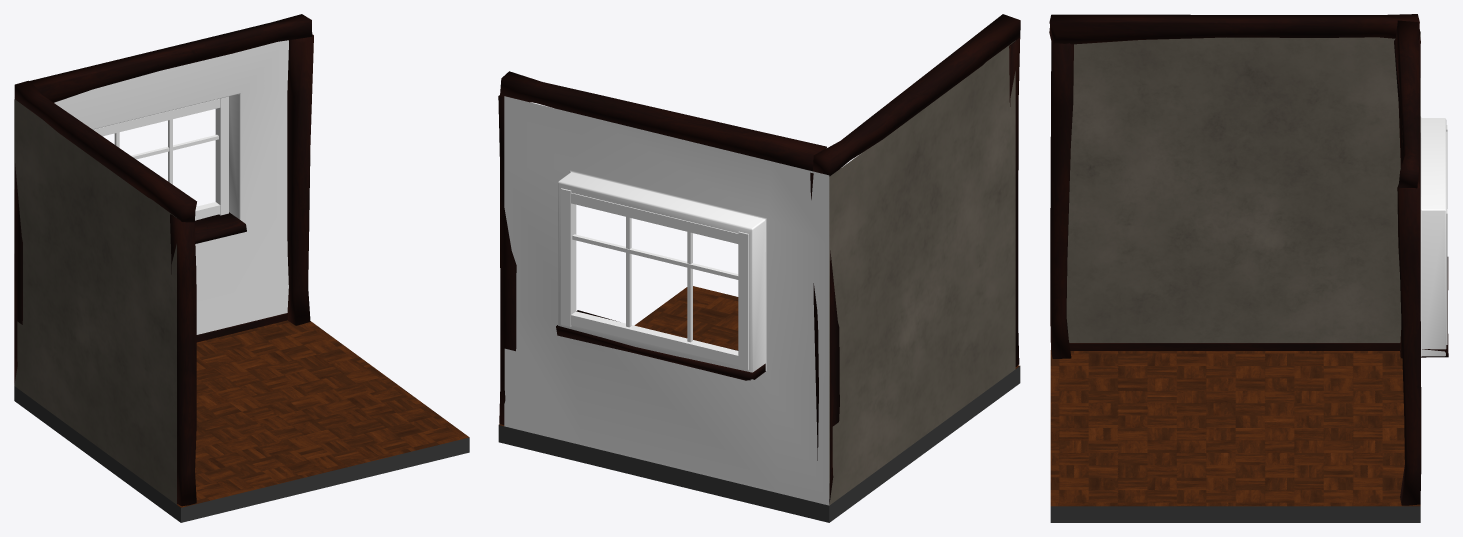
Rendered from cube_diorama.glb.
3 renders of one model, left to right at view 1: azimuth 30°, elevation 25°; view 2: azimuth 150°, elevation 25°; view 3: azimuth 270°, elevation 25°, orthographic. The views are drawn at different scales.
Parts seen in each view (by area): view 1: Wall2, Floor, Wall1, Ground Plate, Beam2, Beam5, Beam3, Beam4, Cube.006, Beam2.001, Cube.007, Window Board (+1 smaller); view 2: Wall1, Wall2, Ground Plate, Beam5, Beam4, Floor, Beam2, Cube.008, Beam2.001, Cube.006, Window Board, Cube.007 (+5 smaller); view 3: Wall2, Floor, Beam4, Beam2, Wall1, Ground Plate, Beam3, Beam5, Cube, Beam2.001.
Part boxes in pixels (<box>): Wall2: <box>14,99,176,504</box>; Floor: <box>177,320,469,507</box>; Wall1: <box>14,40,288,334</box>; Ground Plate: <box>14,386,469,522</box>; Beam2: <box>287,34,313,325</box>; Beam5: <box>29,14,312,102</box>; Beam3: <box>170,214,196,506</box>; Beam4: <box>14,80,196,222</box>; Cube.006: <box>215,96,228,215</box>; Beam2.001: <box>14,107,39,384</box>; Cube.007: <box>93,98,220,136</box>; Window Board: <box>194,212,246,243</box>; Wall1: <box>504,96,829,505</box>; Wall2: <box>829,40,1015,505</box>; Ground Plate: <box>498,366,1020,522</box>; Beam5: <box>500,71,826,171</box>; Beam4: <box>813,14,1020,176</box>; Floor: <box>499,286,1019,426</box>; Beam2: <box>498,95,530,424</box>; Cube.008: <box>571,311,738,365</box>; Beam2.001: <box>810,172,839,503</box>; Cube.006: <box>561,188,576,326</box>; Window Board: <box>556,310,765,380</box>; Cube.007: <box>571,193,738,243</box>; Wall2: <box>1066,31,1420,342</box>; Floor: <box>1050,350,1420,506</box>; Beam4: <box>1049,14,1420,45</box>; Beam2: <box>1397,180,1421,505</box>; Wall1: <box>1420,116,1446,356</box>; Ground Plate: <box>1050,506,1420,522</box>; Beam3: <box>1050,42,1073,358</box>; Beam5: <box>1396,20,1419,188</box>; Cube: <box>1069,343,1400,350</box>; Beam2.001: <box>1394,35,1420,358</box>.
Size of the model in its own units: 2.02 by 2.1 by 2.16.
Materials: 6 (3 with a texture image).
